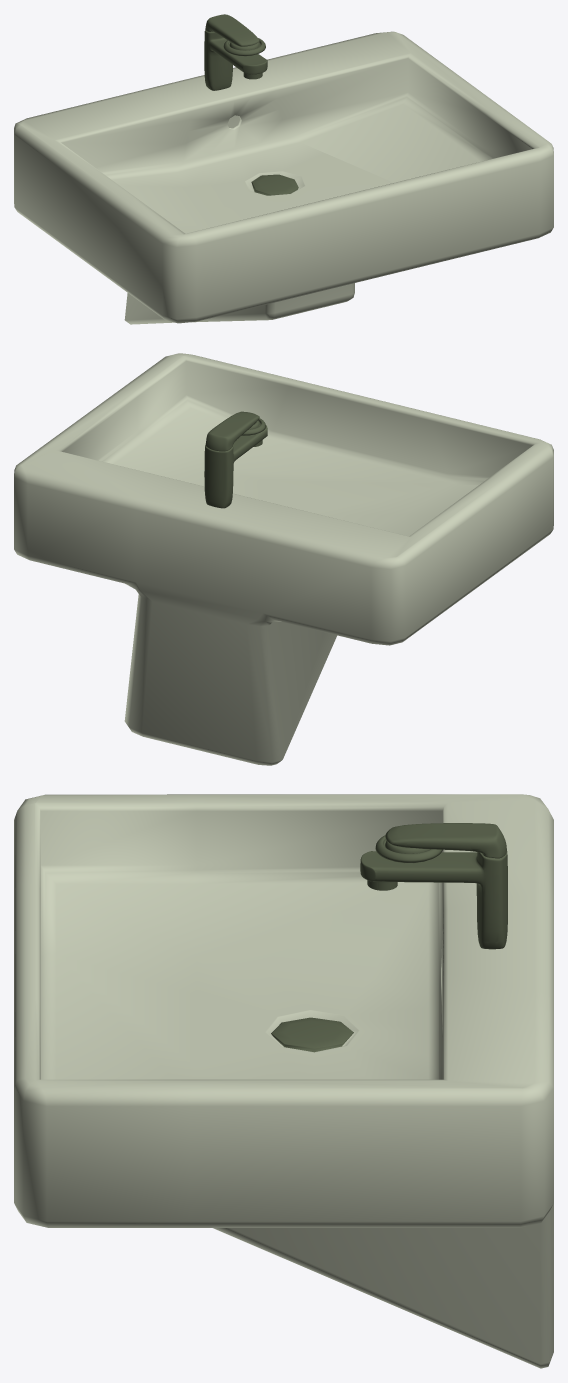
File: waschbecken.glb
The picture shows the model from 3 angles, top to bottom: view 1: azimuth 30°, elevation 25°; view 2: azimuth 150°, elevation 25°; view 3: azimuth 270°, elevation 25°; orthographic projection. The views are drawn at different scales.
Parts seen in each view (by area): view 1: Plane_SInk_0; view 2: Plane_SInk_0; view 3: Plane_SInk_0.
Part boxes in pixels (x1,y1,x2,y2): Plane_SInk_0: (14,14,553,324); Plane_SInk_0: (14,353,553,765); Plane_SInk_0: (14,794,553,1368).
Bounding box in the file's own units: 0.6617 × 0.4907 × 0.4951.
